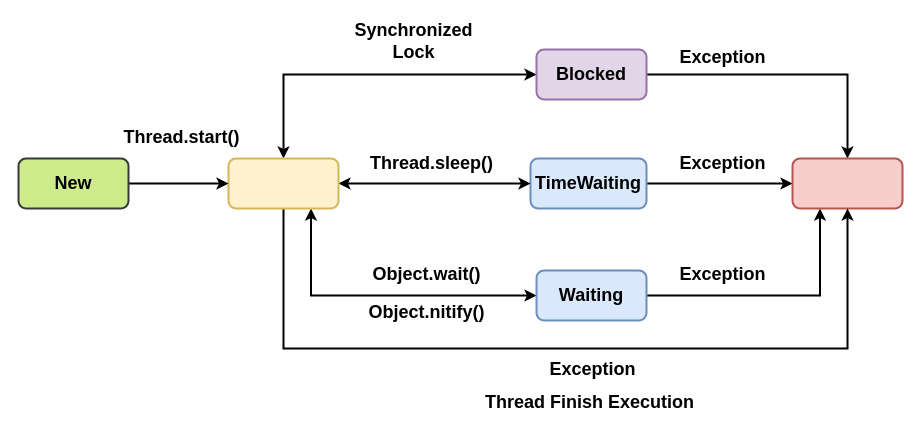
The diagram is 920 pixels wide and 432 high, and some of its shapes have lost their labels. The shapes that lost their labels are listed below. From the top down, each one's centre as x and y in pixels, then its label:
point (283, 183): Runnable
point (847, 183): Terminated
